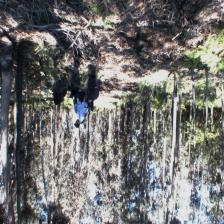trunktrack_idkeyframe: (0, 69, 12, 162), (9, 58, 17, 162)
